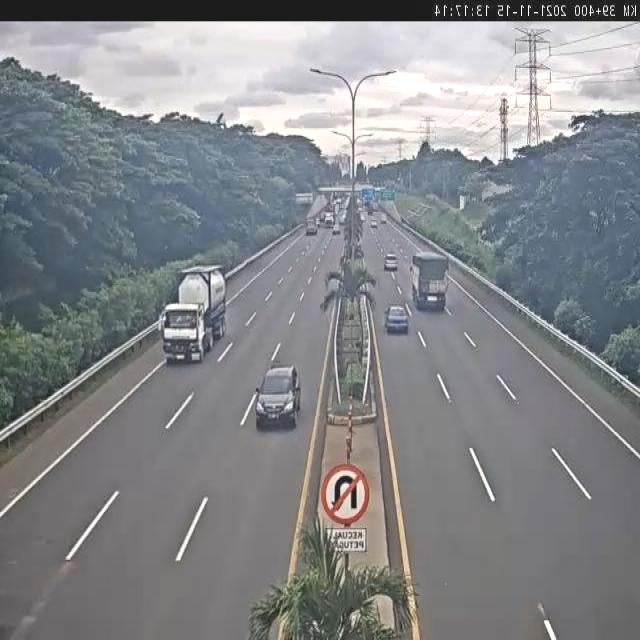Car: (250, 362, 307, 429), (382, 296, 409, 339), (381, 250, 402, 273)
Truck: (159, 263, 228, 365), (409, 239, 453, 314)
